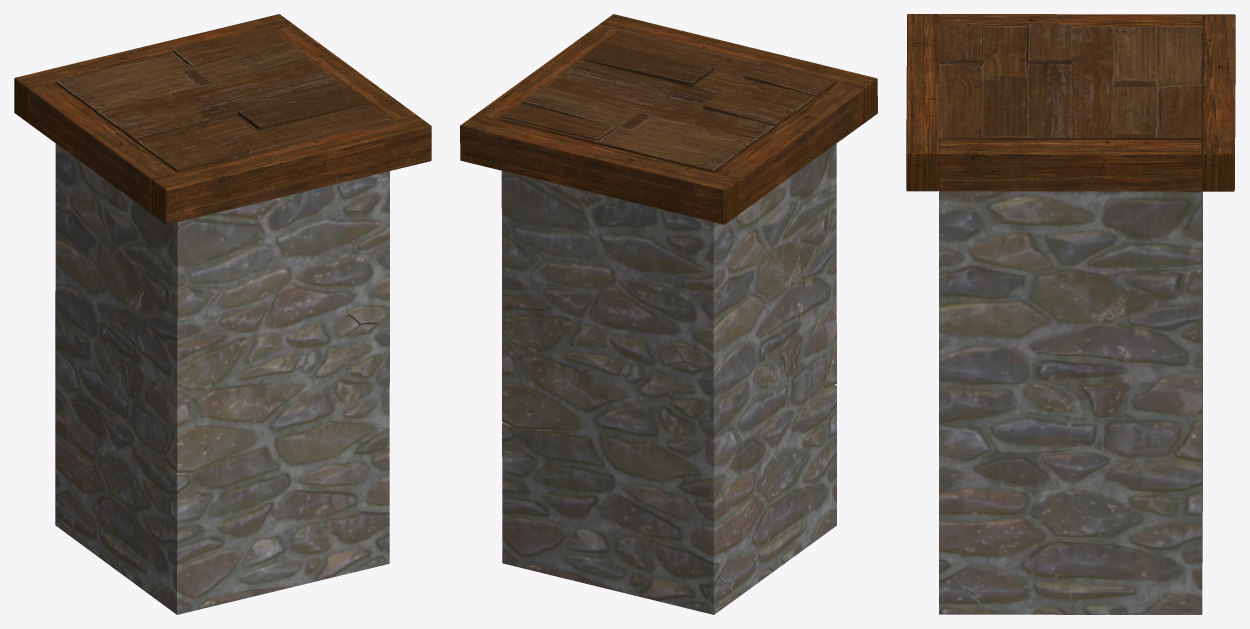
The picture shows the model from 3 angles, left to right: view 1: azimuth 30°, elevation 25°; view 2: azimuth 150°, elevation 25°; view 3: azimuth 270°, elevation 25°; orthographic projection. The views are drawn at different scales.
Visible parts, largest first — view 1: SM_BB_T2_Foundation_Med_LOD0; view 2: SM_BB_T2_Foundation_Med_LOD0; view 3: SM_BB_T2_Foundation_Med_LOD0.
Boxes of the visible parts, bbox=[...] form: SM_BB_T2_Foundation_Med_LOD0: bbox=[14, 14, 431, 614]; SM_BB_T2_Foundation_Med_LOD0: bbox=[460, 14, 877, 614]; SM_BB_T2_Foundation_Med_LOD0: bbox=[906, 14, 1235, 614].
Bounding box in the file's own units: 1.88 × 3.03 × 1.88.
Materials: 3 (3 with a texture image).
